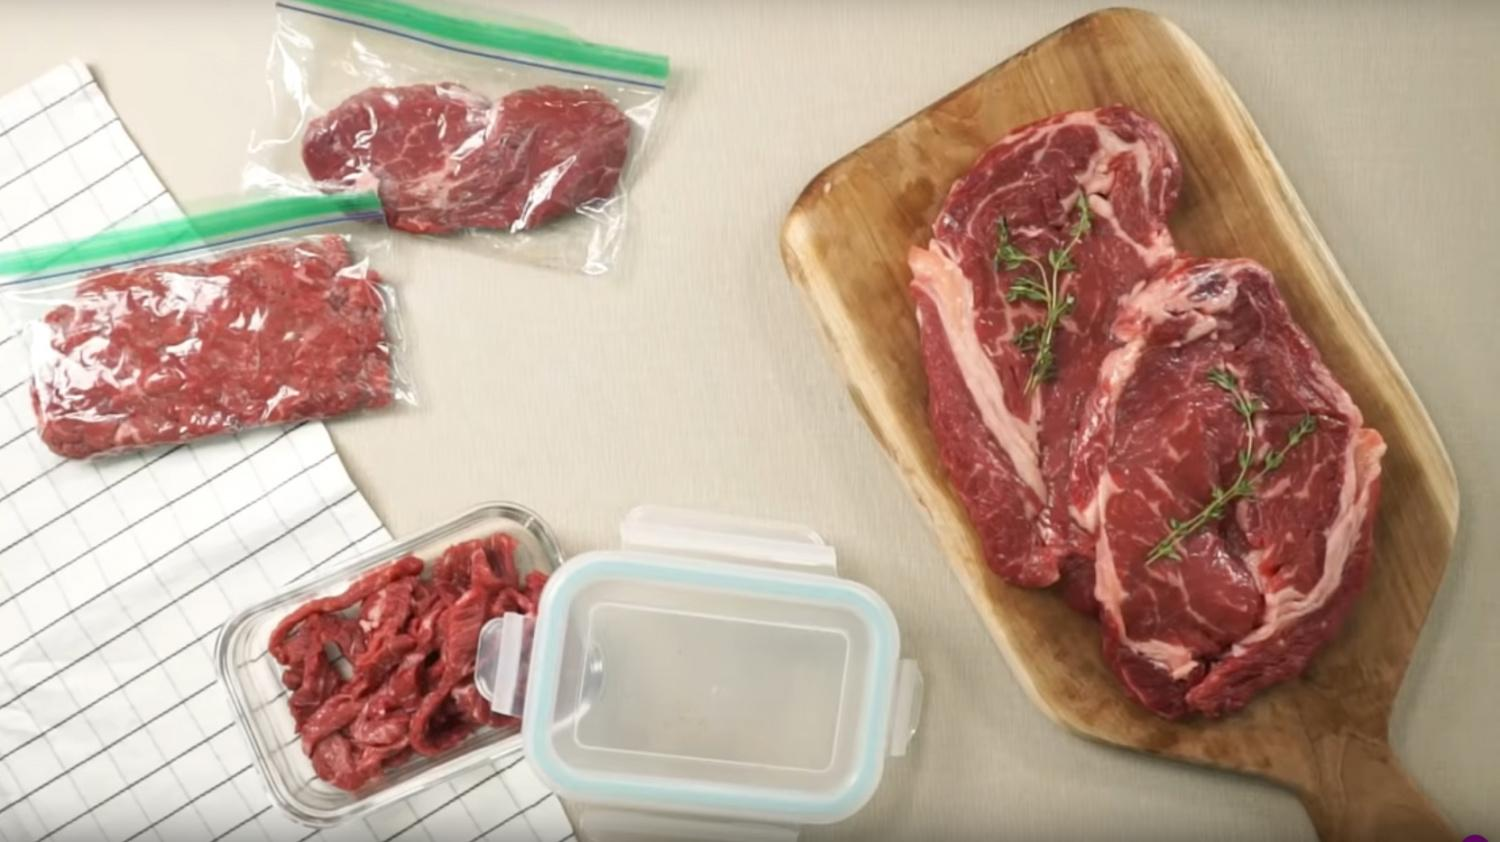beef: (1212, 156, 1500, 757), (1153, 347, 1500, 842), (710, 112, 1472, 314)
